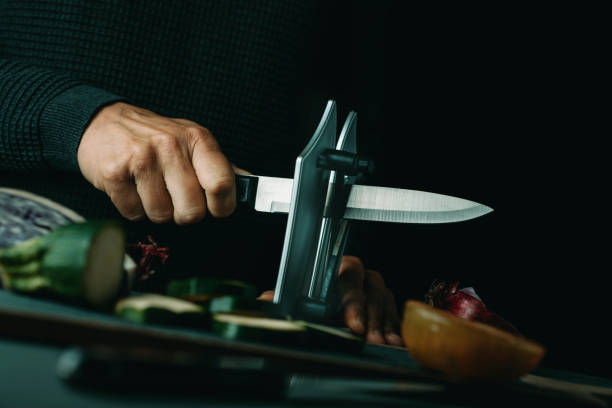knife: (233, 173, 497, 225)
